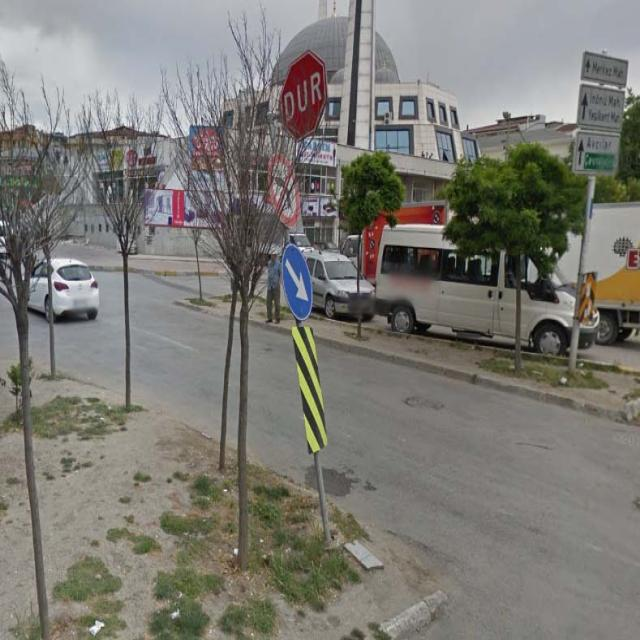dur: (279, 53, 326, 141)
soladonulmez: (268, 154, 301, 226)
